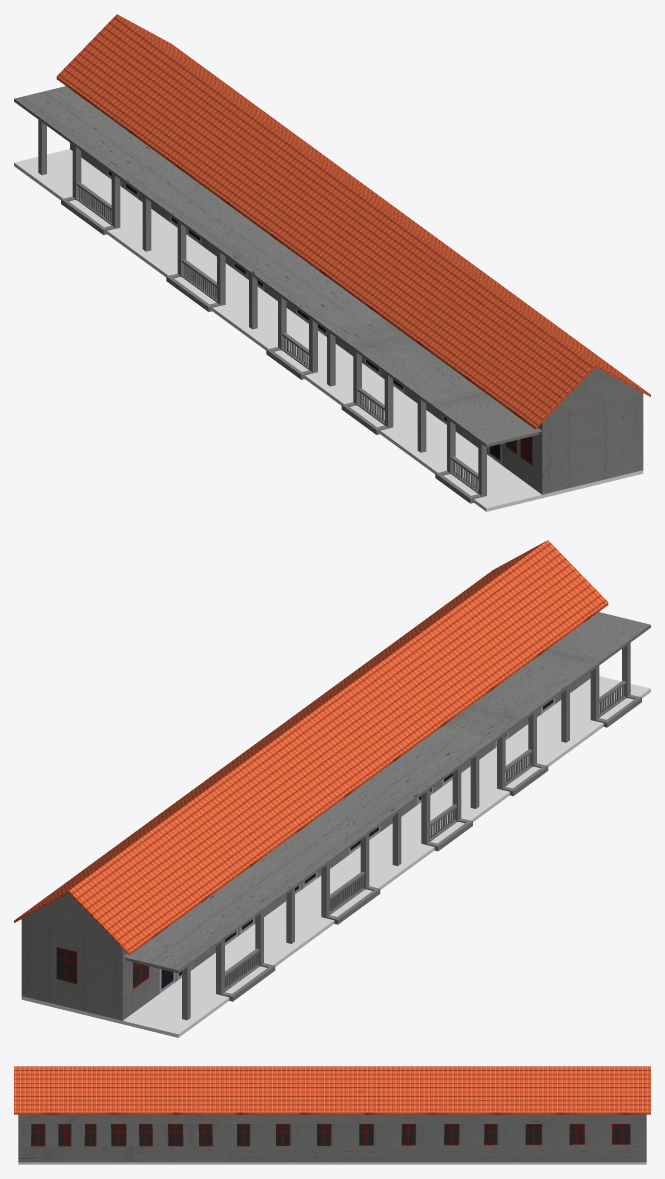
The model's file is nha3.fbx.
3 renders of one model, top to bottom at view 1: azimuth 30°, elevation 25°; view 2: azimuth 150°, elevation 25°; view 3: azimuth 270°, elevation 25°, orthographic. The views are drawn at different scales.
Visible parts, largest first — view 1: Cube.011; view 2: Cube.011; view 3: Cube.011.
Boxes of the visible parts, x1,y1,x2,y2 form: Cube.011: (14, 14, 650, 511); Cube.011: (14, 540, 650, 1037); Cube.011: (14, 1066, 650, 1164).
Size of the model in its own units: 2234 by 1603 by 11252.
